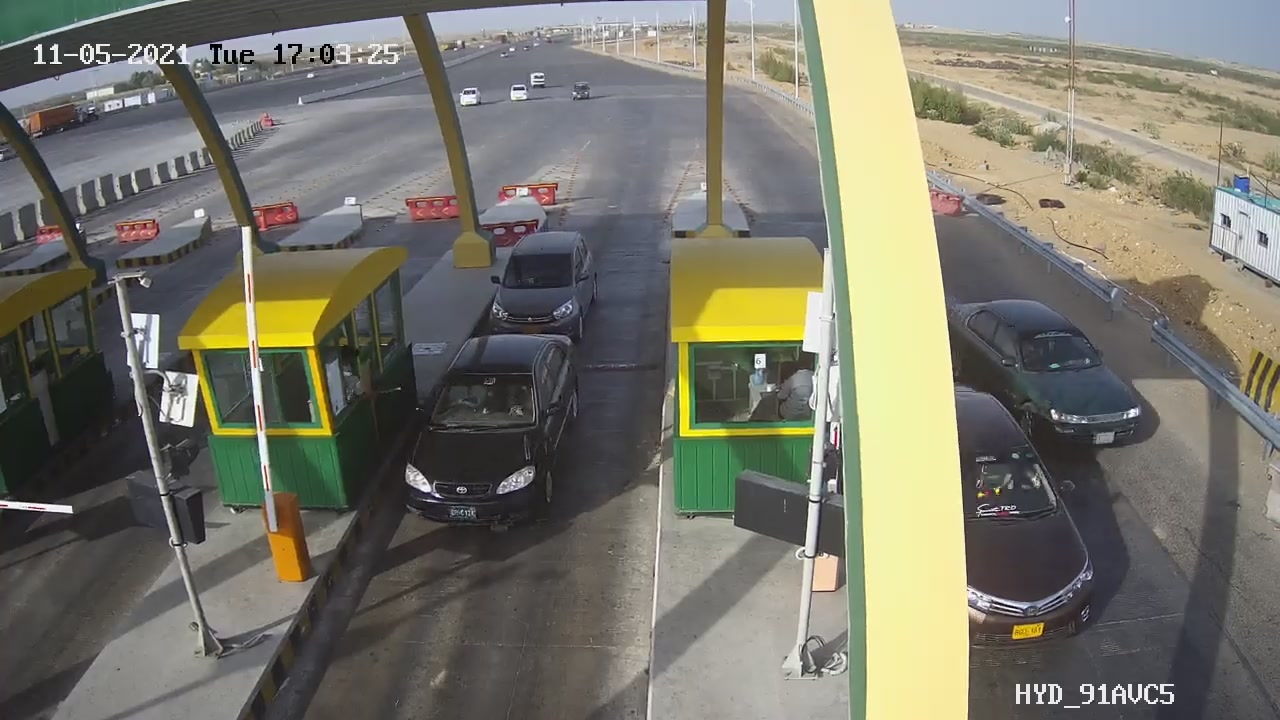F1: (382, 318, 611, 555), (473, 217, 612, 368)
